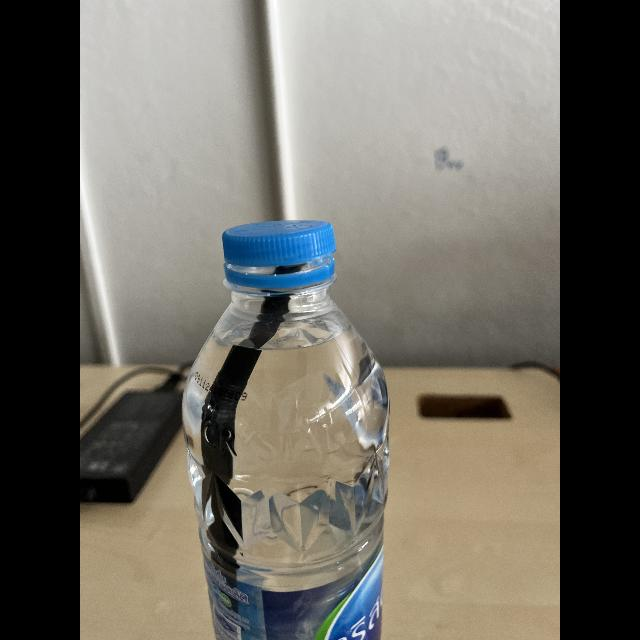plastic_bottle_cap: (217, 214, 337, 270)
